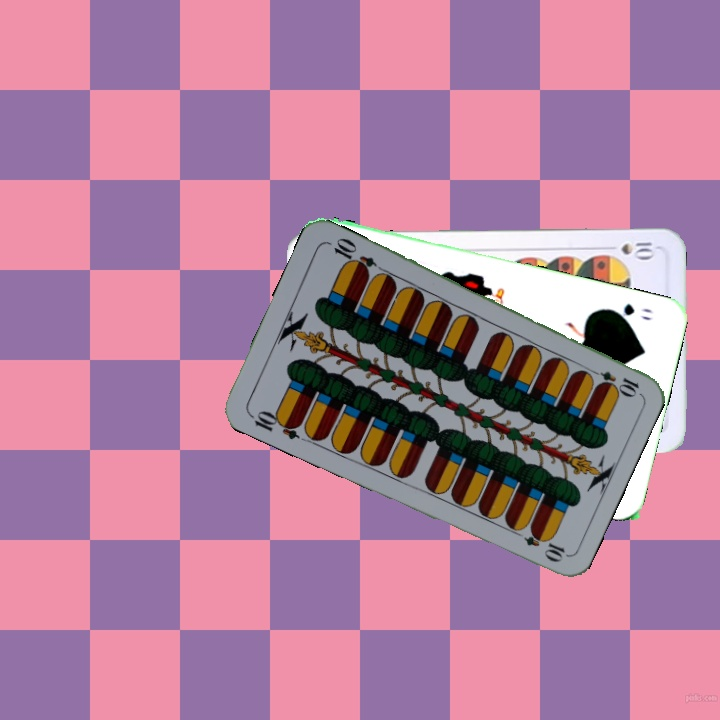E10: (245, 406, 304, 442), (584, 364, 642, 398)
GO: (602, 299, 655, 323)
S10: (601, 238, 658, 260)
